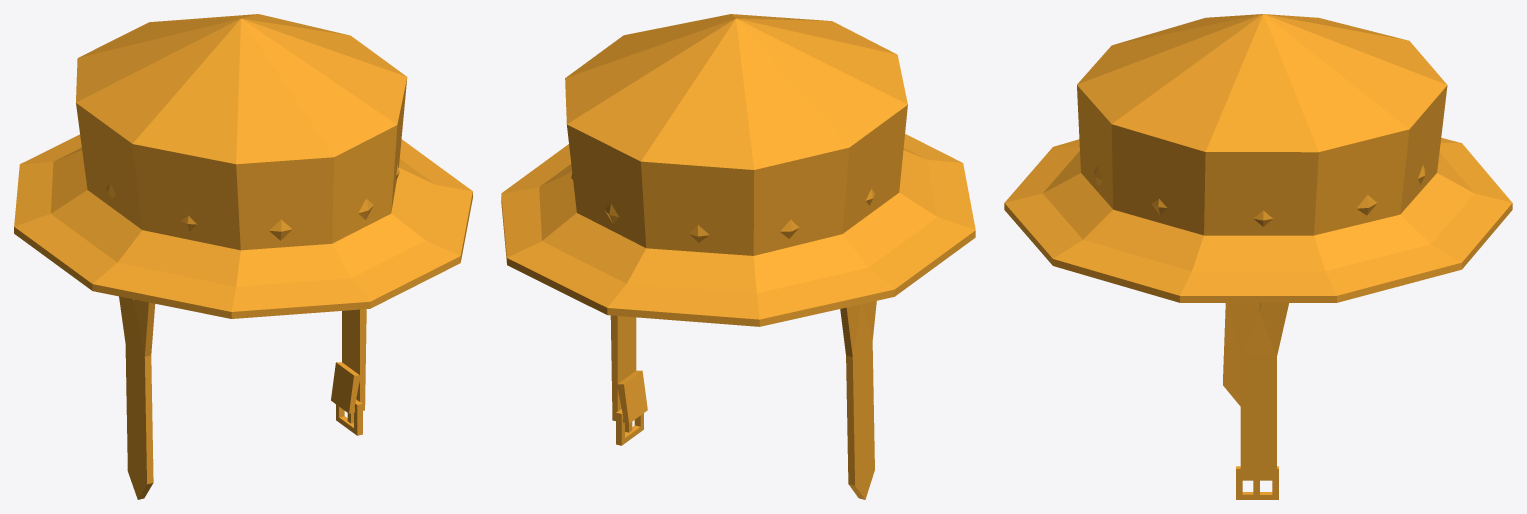
The model's file is SM_Helmet_Kattle_Hat_C.fbx.
3 views of the same model, side by side, from view 1: azimuth 30°, elevation 25°; view 2: azimuth 150°, elevation 25°; view 3: azimuth 270°, elevation 25° (orthographic). The views are drawn at different scales.
Visible parts, largest first — view 1: helmet-kattle-hat-c; view 2: helmet-kattle-hat-c; view 3: helmet-kattle-hat-c.
Part boxes in pixels (bbox=[...]): helmet-kattle-hat-c: bbox=[14, 14, 472, 499]; helmet-kattle-hat-c: bbox=[501, 14, 975, 499]; helmet-kattle-hat-c: bbox=[1004, 14, 1512, 499].
Bounding box in the file's own units: 0.3246 × 0.3633 × 0.3749.
